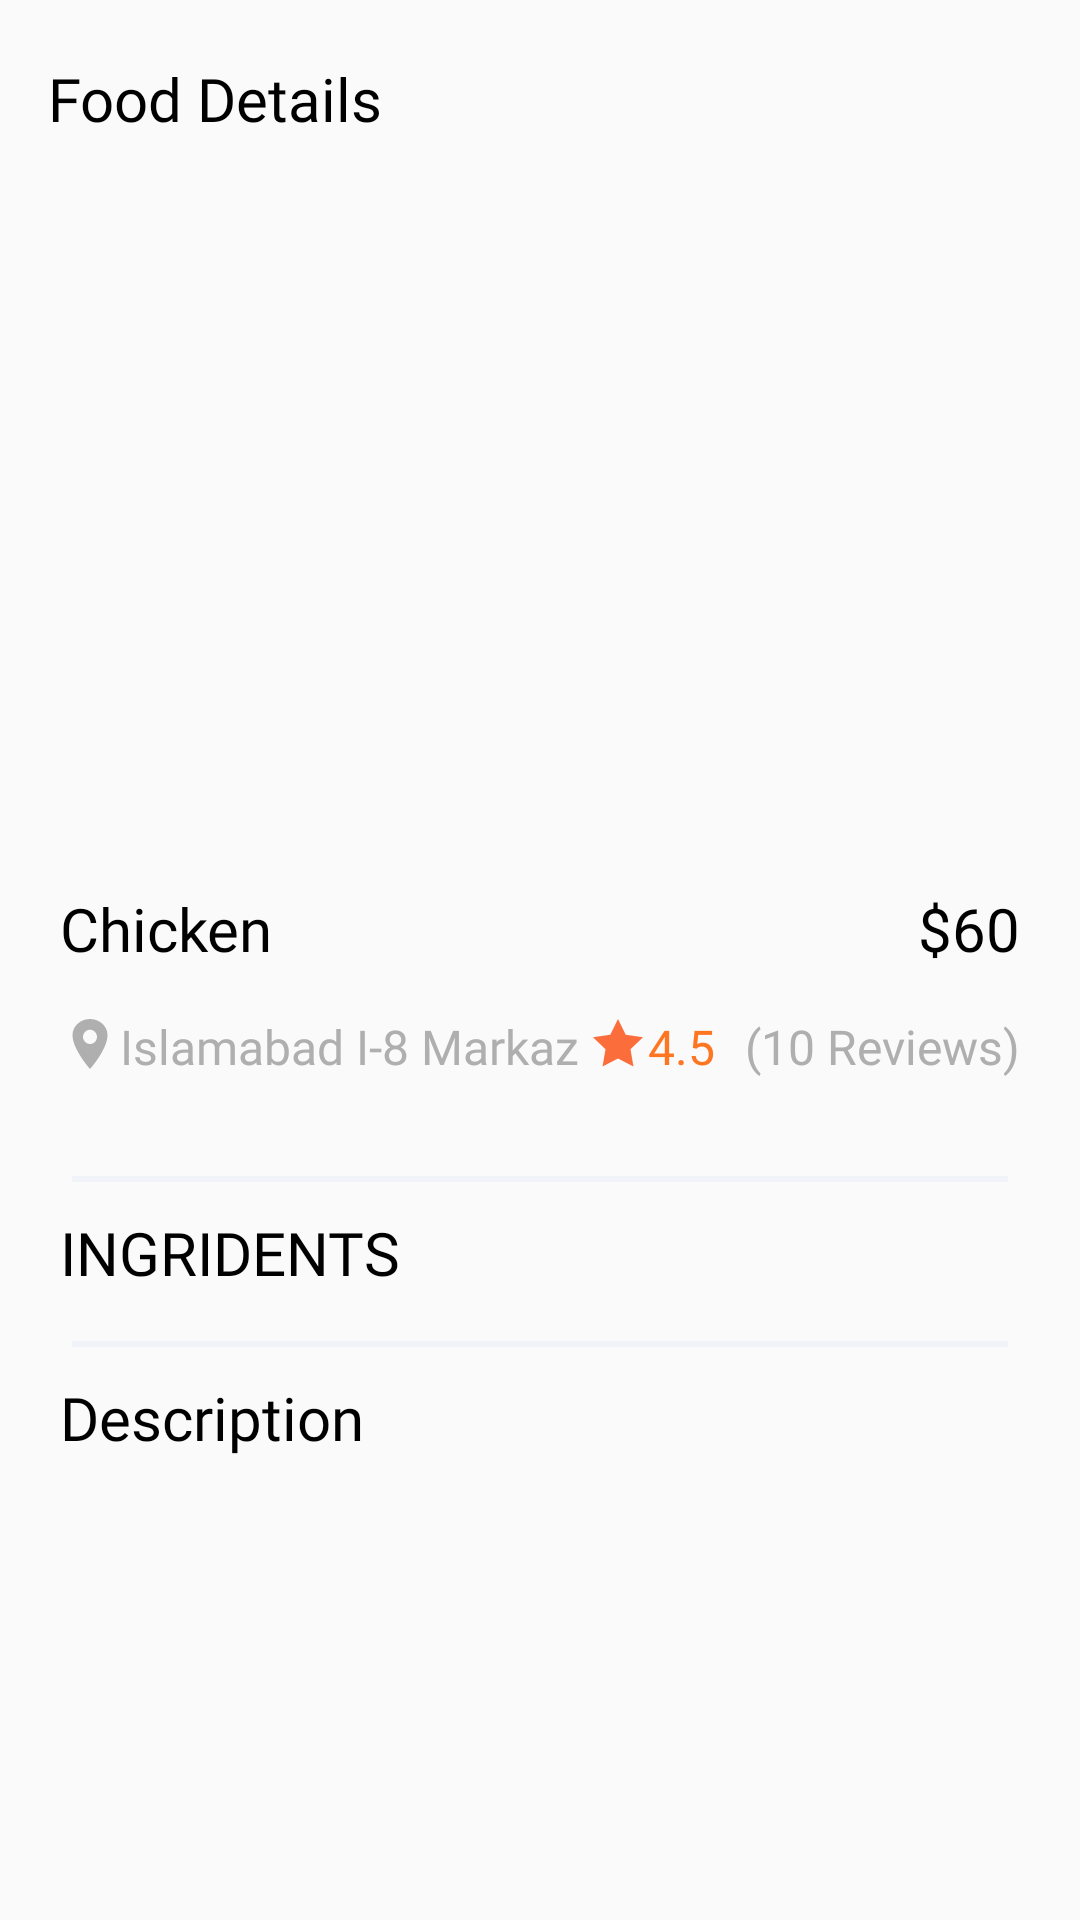

Named icons in this screenshot (1080x1920) and their bounding boxes, (x1, y1, x2, y2):
location: (72, 1019, 108, 1069)
star: (593, 1019, 643, 1067)
